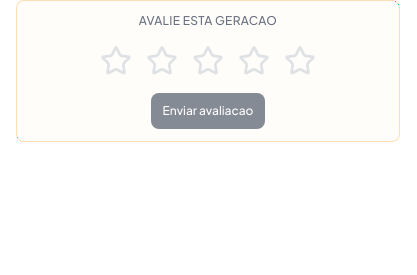
Test: FeedbackStarsCard › shows comment field after selecting a star
Note: Click star 4
Click the radio button named "4 estrelas". click: click(254, 61)
box: 234,41 -> 274,81
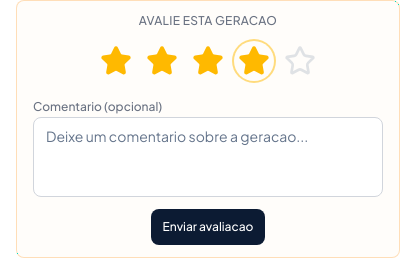
Now the text box is shown, box 33,117 -> 383,197
